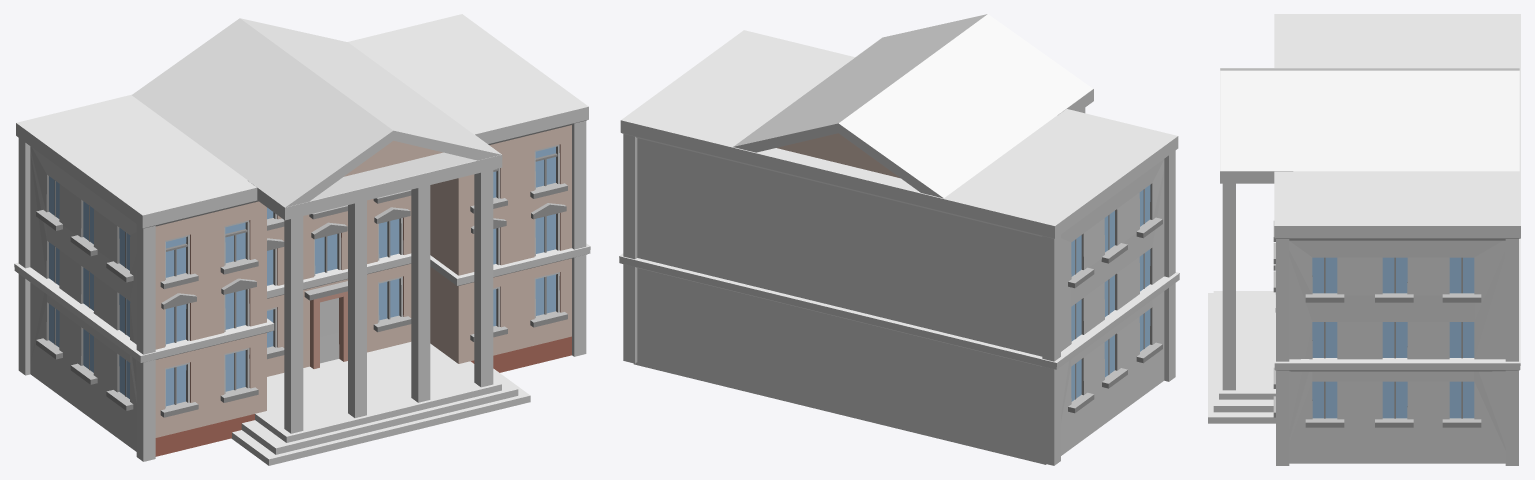
The model's file is house_art_010.fbx.
The picture shows the model from 3 angles, left to right: view 1: azimuth 30°, elevation 25°; view 2: azimuth 150°, elevation 25°; view 3: azimuth 270°, elevation 25°; orthographic projection. The views are drawn at different scales.
Parts seen in each view (by area): view 1: house_art_010; view 2: house_art_010; view 3: house_art_010.
Part boxes in pixels (x1=…): house_art_010: x1=14, y1=14, x2=590, y2=465; house_art_010: x1=619, y1=14, x2=1179, y2=465; house_art_010: x1=1208, y1=14, x2=1520, y2=465.
Bounding box in the file's own units: 1529 × 978 × 945.
